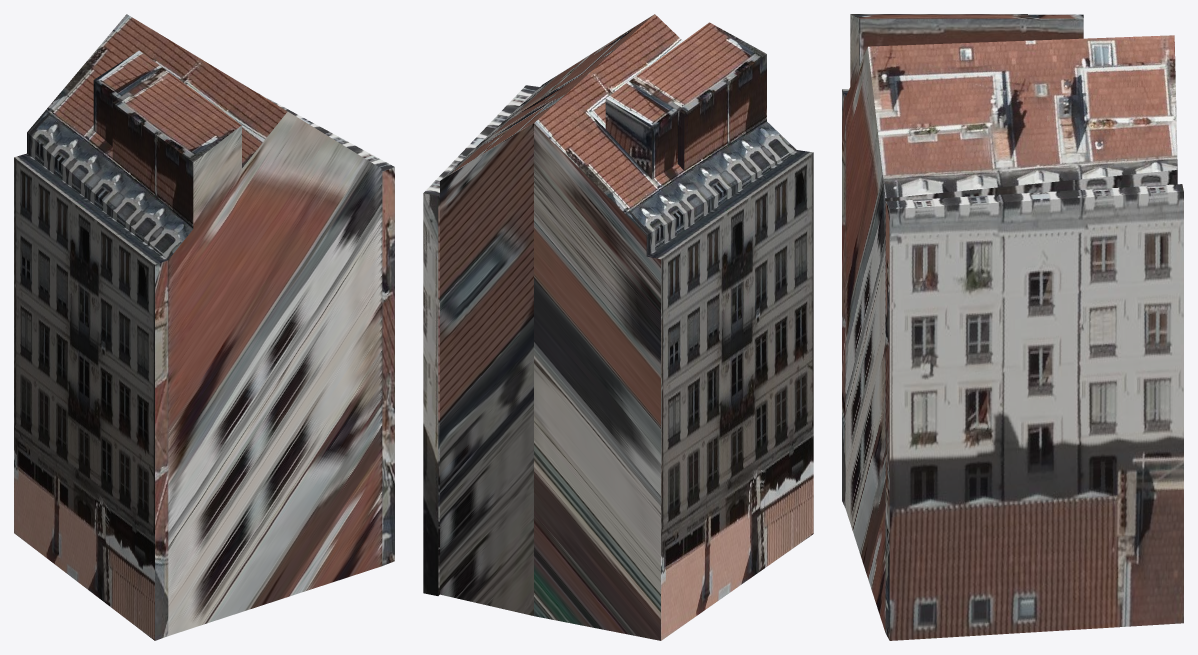
3 views of the same model, side by side, from view 1: azimuth 30°, elevation 25°; view 2: azimuth 150°, elevation 25°; view 3: azimuth 270°, elevation 25° (orthographic). The views are drawn at different scales.
Parts seen in each view (by area): view 1: Z_UP; view 2: Z_UP; view 3: Z_UP.
Part boxes in pixels (x1,y1,x2,y2): Z_UP: (14, 14, 394, 640); Z_UP: (423, 14, 813, 640); Z_UP: (842, 14, 1183, 640).
Size of the model in its own units: 15.3 by 27.19 by 15.8.
2 materials, 1 textured.
